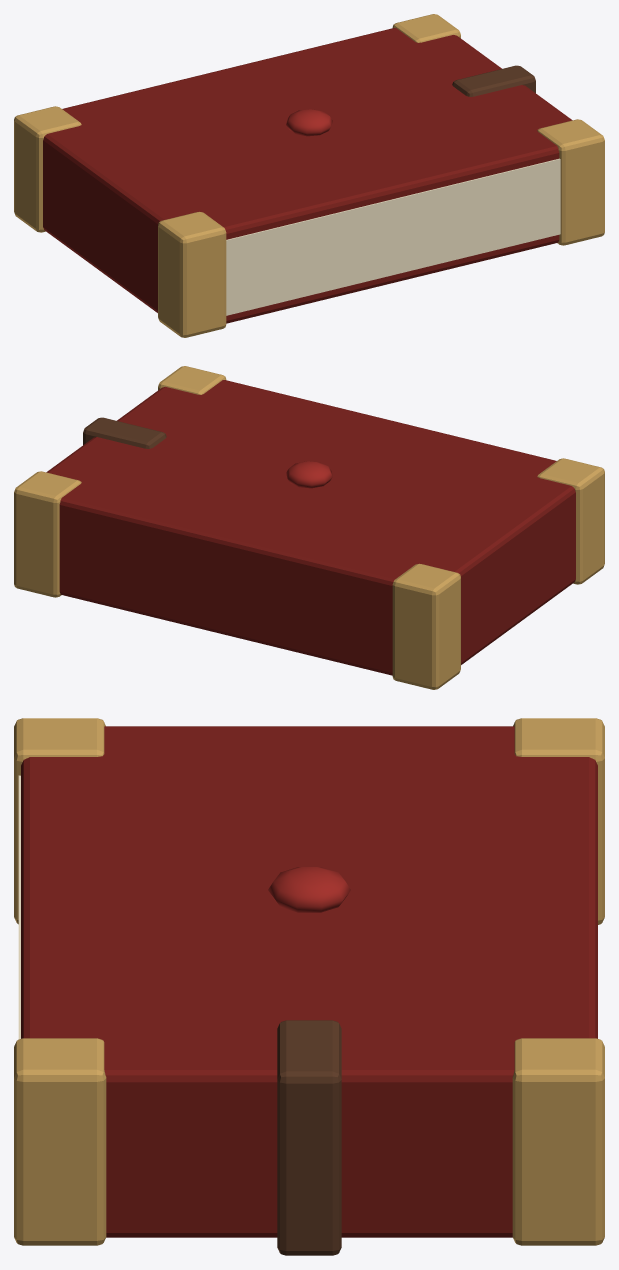
Rendered from big_book.glb.
The picture shows the model from 3 angles, top to bottom: view 1: azimuth 30°, elevation 25°; view 2: azimuth 150°, elevation 25°; view 3: azimuth 270°, elevation 25°; orthographic projection. The views are drawn at different scales.
Visible parts, largest first — view 1: big_book; view 2: big_book; view 3: big_book.
Boxes of the visible parts, box(x1,y1,x2,y2) form: big_book: box(14, 14, 604, 337); big_book: box(14, 366, 604, 689); big_book: box(14, 718, 604, 1255).
Size of the model in its own units: 1.87 by 0.4805 by 1.28.
